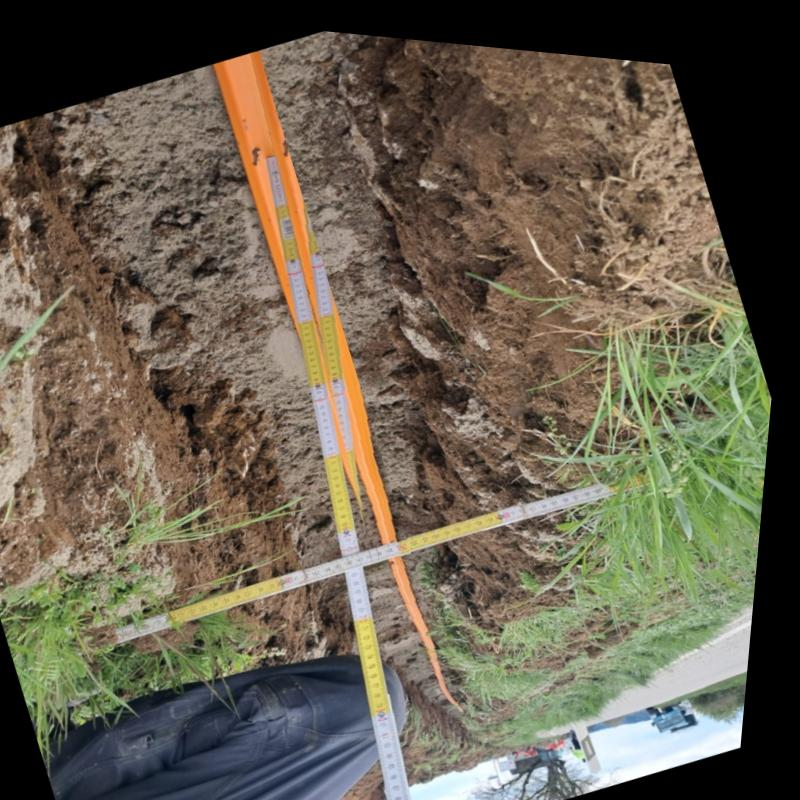Orang-Speednetrohrchen: (242, 46, 452, 649)
